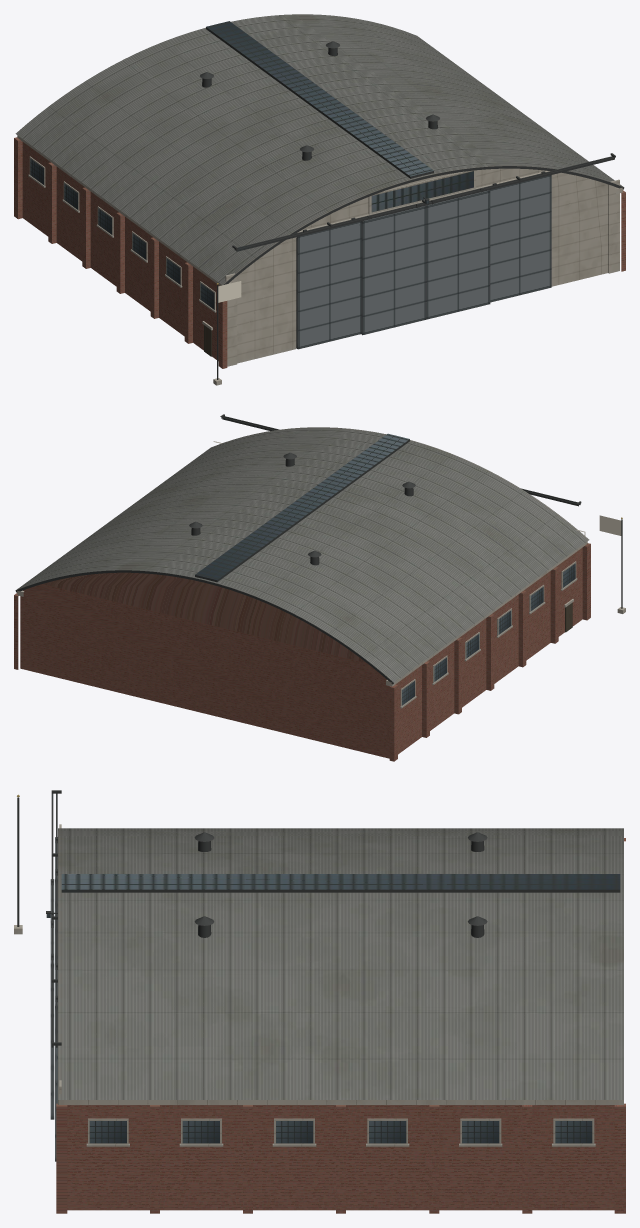
The model's file is airfield.glb.
3 views of the same model, one above another, from view 1: azimuth 30°, elevation 25°; view 2: azimuth 150°, elevation 25°; view 3: azimuth 270°, elevation 25° (orthographic). The views are drawn at different scales.
Parts seen in each view (by area): view 1: hangar, porte_droite_1, porte_droite_2, porte_gauche_1, porte_gauche_2, rail_porte; view 2: hangar, rail_porte; view 3: hangar, rail_porte, porte_gauche_1.
Boxes of the visible parts, left/top/right/bottom form: hangar: left=14, top=14, right=625, bottom=368; porte_droite_1: left=361, top=203, right=426, bottom=335; porte_droite_2: left=296, top=217, right=361, bottom=349; porte_gauche_1: left=426, top=188, right=490, bottom=319; porte_gauche_2: left=490, top=171, right=551, bottom=302; rail_porte: left=232, top=153, right=615, bottom=251; hangar: left=14, top=427, right=590, bottom=761; rail_porte: left=220, top=414, right=581, bottom=506; hangar: left=46, top=824, right=625, bottom=1213; rail_porte: left=51, top=790, right=61, bottom=1047; porte_gauche_1: left=50, top=921, right=54, bottom=1119.
Bounding box in the file's own units: 53.95 × 18.23 × 49.3.
Materials: 10 (8 with a texture image).
